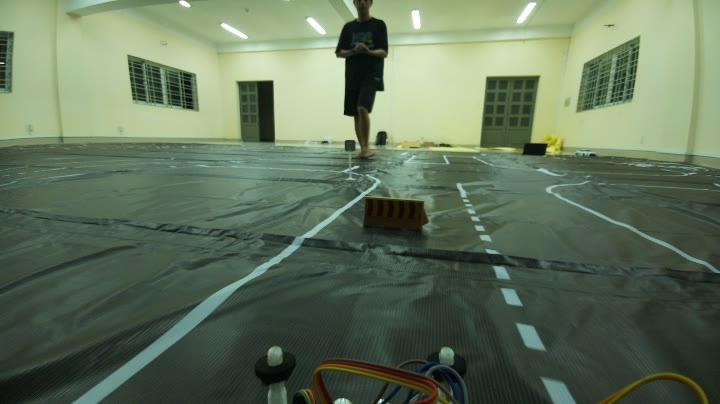roadblock: (360, 192, 435, 242)
